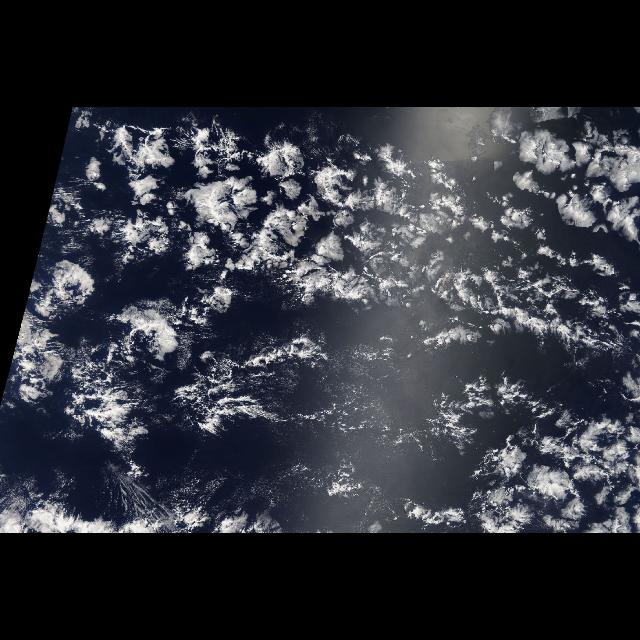Flower: (30, 134, 486, 314)
Gravel: (153, 336, 395, 456)
